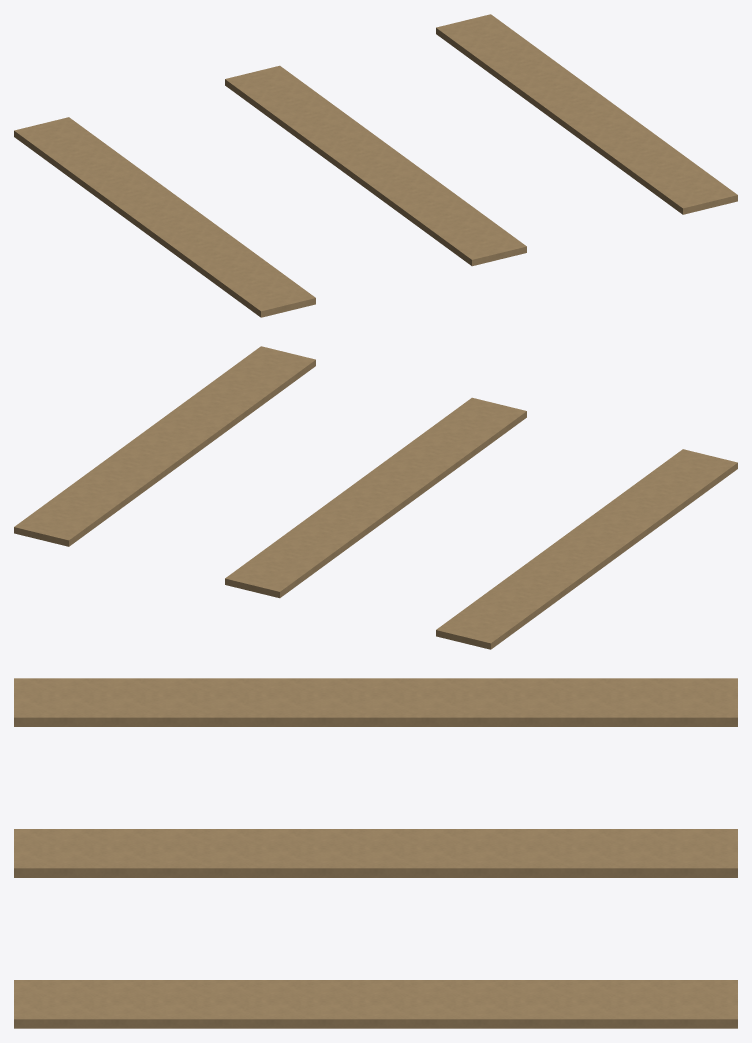
File: yong-ground-LOD0.glb
3 renders of one model, top to bottom at view 1: azimuth 30°, elevation 25°; view 2: azimuth 150°, elevation 25°; view 3: azimuth 270°, elevation 25°, orthographic. The views are drawn at different scales.
Visible parts, largest first — view 1: yong_ground_C; view 2: yong_ground_C; view 3: yong_ground_C.
Boxes of the visible parts, x1,y1,x2,y2 form: yong_ground_C: (14,14,737,317); yong_ground_C: (14,346,737,649); yong_ground_C: (14,678,737,1028).
Bounding box in the file's own units: 15.6 × 0.202 × 14.
Materials: 1 (1 with a texture image).
